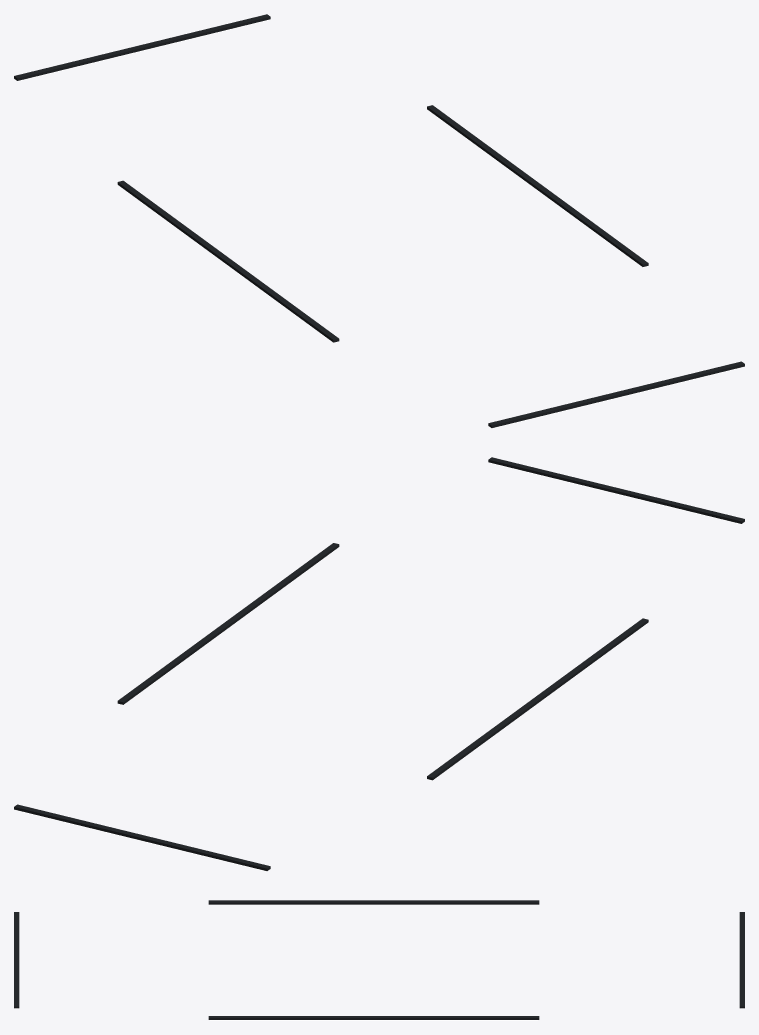
File: vortex_r.glb
3 views of the same model, one above another, from view 1: azimuth 30°, elevation 25°; view 2: azimuth 150°, elevation 25°; view 3: azimuth 270°, elevation 25° (orthographic). The views are drawn at different scales.
Visible parts, largest first — view 1: model; view 2: model; view 3: model.
Boxes of the visible parts, left/top/right/bottom form: model: left=14, top=14, right=744, bottom=428; model: left=14, top=457, right=744, bottom=871; model: left=14, top=900, right=744, bottom=1020.
Size of the model in its own units: 1.51 by 0.0179 by 3.96.
2 materials, 1 textured.
